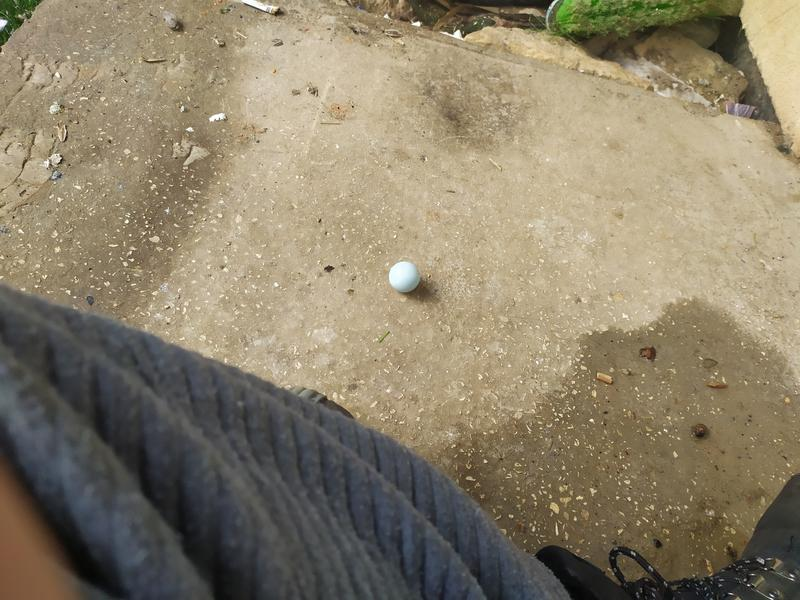Warning: (387, 259, 423, 294)
